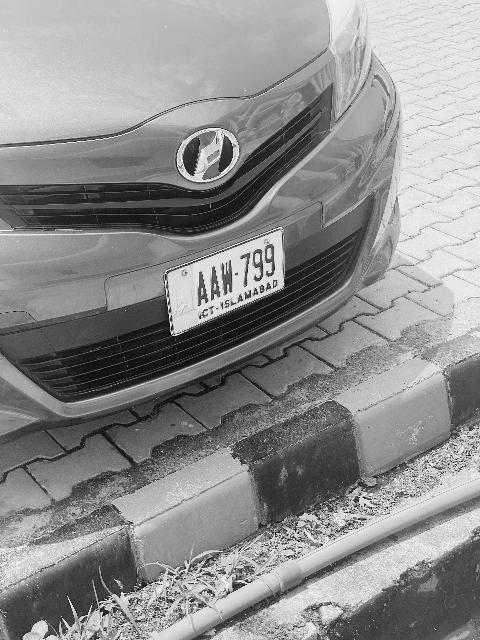Number: (194, 236, 277, 310)
